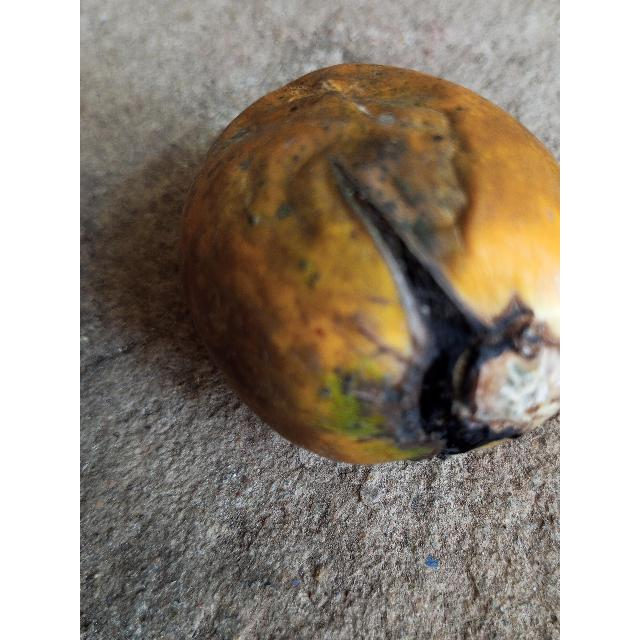damaged: (180, 64, 560, 464)
